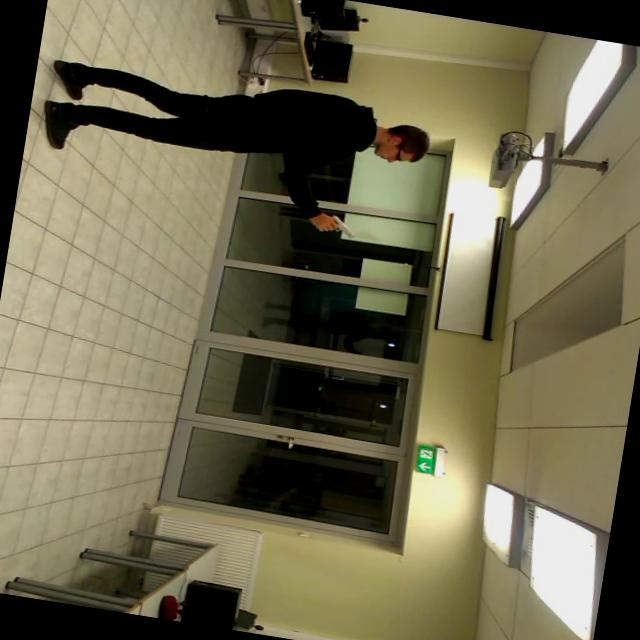handgun: (298, 203, 372, 251)
